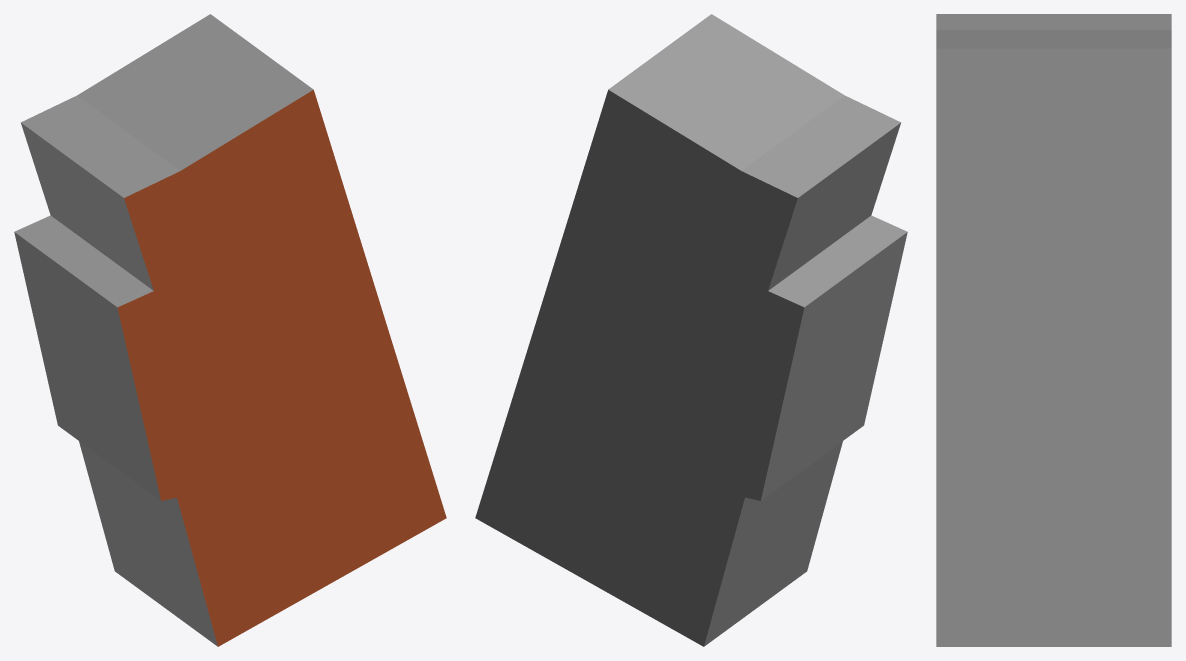
File: construction_4727_assumed_A_Casa_h6m.obj
The picture shows the model from 3 angles, left to right: view 1: azimuth 30°, elevation 25°; view 2: azimuth 150°, elevation 25°; view 3: azimuth 270°, elevation 25°; orthographic projection. The views are drawn at different scales.
Parts seen in each view (by area): view 1: construction_4727_assumed_A_Casa; view 2: construction_4727_assumed_A_Casa; view 3: construction_4727_assumed_A_Casa.
Boxes of the visible parts, x1,y1,x2,y2 form: construction_4727_assumed_A_Casa: [14, 14, 446, 646]; construction_4727_assumed_A_Casa: [475, 14, 907, 646]; construction_4727_assumed_A_Casa: [936, 14, 1171, 646].
Size of the model in its own units: 11.04 by 17.11 by 6.
